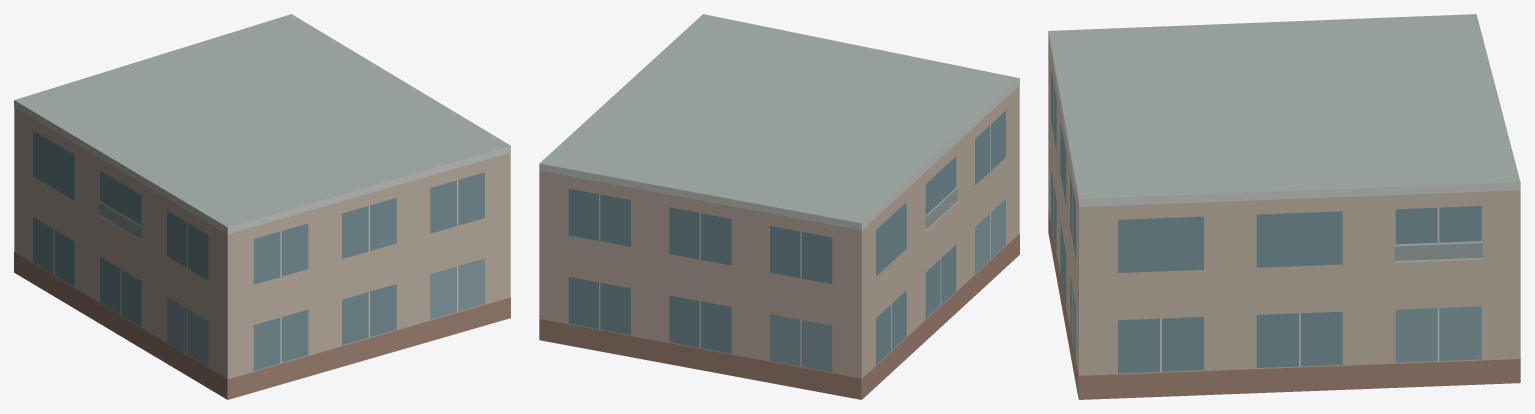
File: survey-upis-32745856.glb
3 views of the same model, side by side, from view 1: azimuth 30°, elevation 25°; view 2: azimuth 150°, elevation 25°; view 3: azimuth 270°, elevation 25° (orthographic). The views are drawn at different scales.
Visible parts, largest first — view 1: survey-upis-32745856.tmp; view 2: survey-upis-32745856.tmp; view 3: survey-upis-32745856.tmp.
Boxes of the visible parts, bbox=[...] form: survey-upis-32745856.tmp: bbox=[14, 14, 510, 399]; survey-upis-32745856.tmp: bbox=[539, 14, 1019, 399]; survey-upis-32745856.tmp: bbox=[1048, 14, 1520, 399].
Bounding box in the file's own units: 12.07 × 6.1 × 13.02.
